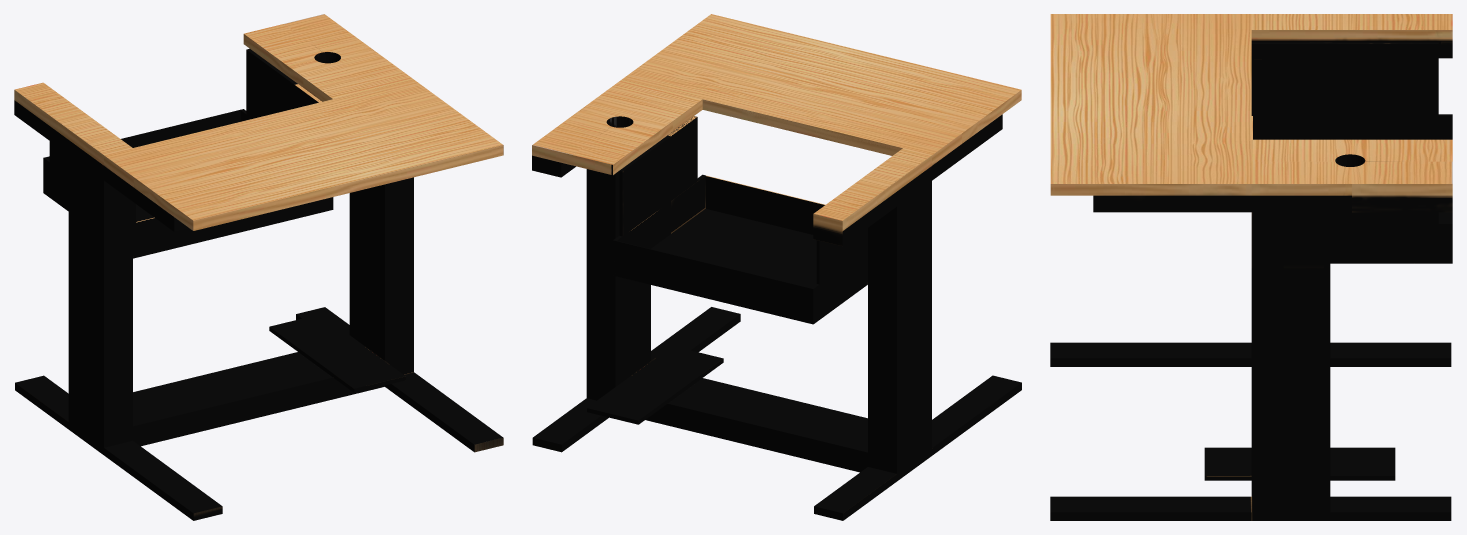
The model's file is table2.fbx.
3 views of the same model, side by side, from view 1: azimuth 30°, elevation 25°; view 2: azimuth 150°, elevation 25°; view 3: azimuth 270°, elevation 25° (orthographic). The views are drawn at different scales.
Visible parts, largest first — view 1: Plane; view 2: Plane; view 3: Plane.
Boxes of the visible parts, x1,y1,x2,y2 form: Plane: (14,14,503,520); Plane: (532,14,1021,520); Plane: (1050,14,1452,520).
Bounding box in the file's own units: 80 × 74 × 80.06.
